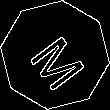M_NE: (21, 22, 89, 88)
